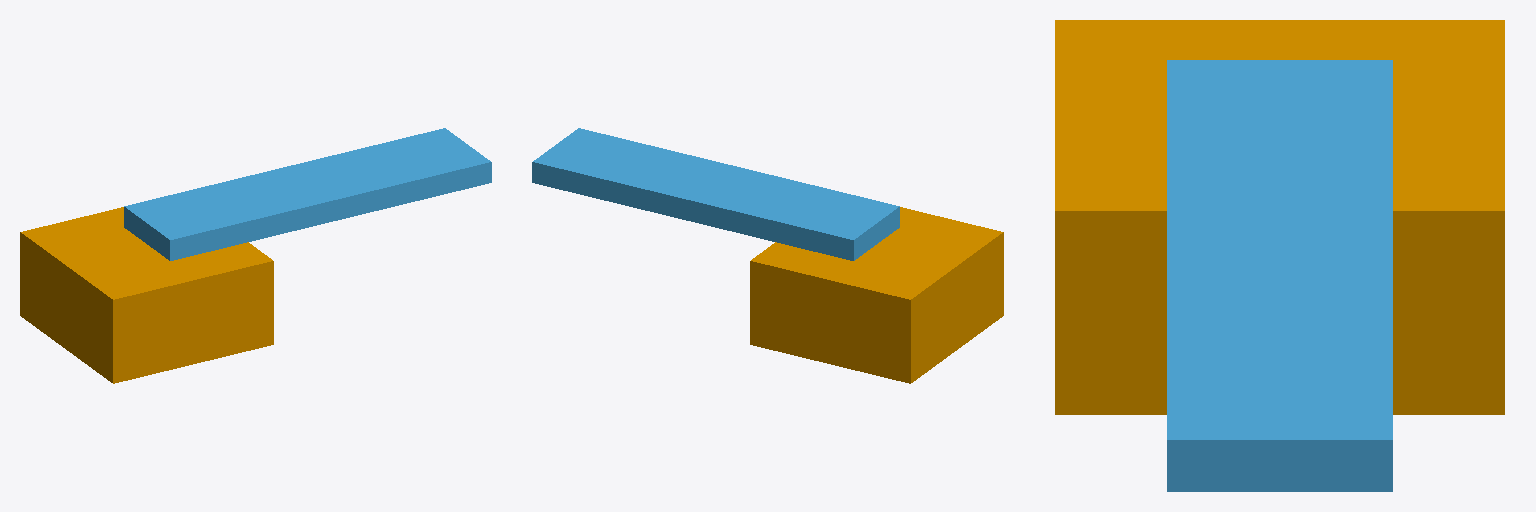
robot.urdf — flag:
<?xml version="1.0"?>
<!--
  robot: flag | consumers: MuJoCo (sfab-bench world)
  units: meters, kilograms, radians
  root: base
  links:
  - base | box 0.04 0.04 0.02 | mass 0.02 kg
  - vane | box 0.08 0.02 0.005 along +X | mass 0.01 kg
  joints:
  - hinge | revolute | parent base | child vane
    origin xyz 0 0 0.023 | axis 0 0 1
    the vane sits 0.5 mm above the base: MuJoCo does not filter contacts
    between a joint's child and a parent welded to the world
    limits 0 .. pi rad (the vcc sketch's 170° swing stays off the stop)
    effort 0.18 N·m and velocity 10.472 rad/s are hobby-servo placeholders
-->
<robot name="flag">
  <mujoco>
    <compiler fusestatic="false" discardvisual="false"/>
  </mujoco>
  <link name="base">
    <inertial>
      <origin xyz="0 0 0.01" rpy="0 0 0"/>
      <mass value="0.02"/>
      <inertia ixx="0.000003" ixy="0" ixz="0" iyy="0.000003" iyz="0" izz="0.000005"/>
    </inertial>
    <visual>
      <origin xyz="0 0 0.01" rpy="0 0 0"/>
      <geometry>
        <box size="0.04 0.04 0.02"/>
      </geometry>
    </visual>
    <collision>
      <origin xyz="0 0 0.01" rpy="0 0 0"/>
      <geometry>
        <box size="0.04 0.04 0.02"/>
      </geometry>
    </collision>
  </link>
  <link name="vane">
    <inertial>
      <origin xyz="0.04 0 0" rpy="0 0 0"/>
      <mass value="0.01"/>
      <inertia ixx="0.0000004" ixy="0" ixz="0" iyy="0.0000054" iyz="0" izz="0.0000055"/>
    </inertial>
    <visual>
      <origin xyz="0.04 0 0" rpy="0 0 0"/>
      <geometry>
        <box size="0.08 0.02 0.005"/>
      </geometry>
    </visual>
    <collision>
      <origin xyz="0.04 0 0" rpy="0 0 0"/>
      <geometry>
        <box size="0.08 0.02 0.005"/>
      </geometry>
    </collision>
  </link>
  <joint name="hinge" type="revolute">
    <parent link="base"/>
    <child link="vane"/>
    <origin xyz="0 0 0.023" rpy="0 0 0"/>
    <axis xyz="0 0 1"/>
    <limit lower="0" upper="3.141592653589793" effort="0.18" velocity="10.472"/>
    <dynamics damping="0.001" friction="0"/>
  </joint>
</robot>

--- What the picture shows (computed from the rendered views, not written in the file) ---
The picture shows the robot from 3 angles, left to right: view 1: azimuth 30°, elevation 25°; view 2: azimuth 150°, elevation 25°; view 3: azimuth 270°, elevation 25°; orthographic projection.
Robot: flag — 2 links, 1 joints (1 revolute); root link base; default pose: all joints at 0.
Links seen in each view (by area): view 1: base, vane; view 2: base, vane; view 3: vane, base.
Link boxes in pixels (x1=…): base: x1=20, y1=207, x2=273, y2=383; vane: x1=124, y1=128, x2=491, y2=260; base: x1=750, y1=207, x2=1003, y2=383; vane: x1=532, y1=128, x2=899, y2=260; vane: x1=1167, y1=60, x2=1392, y2=491; base: x1=1055, y1=20, x2=1504, y2=414.
Size in the robot's own frame: 0.1 by 0.04 by 0.0255 metres.
Geometry: primitives only (box / cylinder / sphere), no mesh files.
